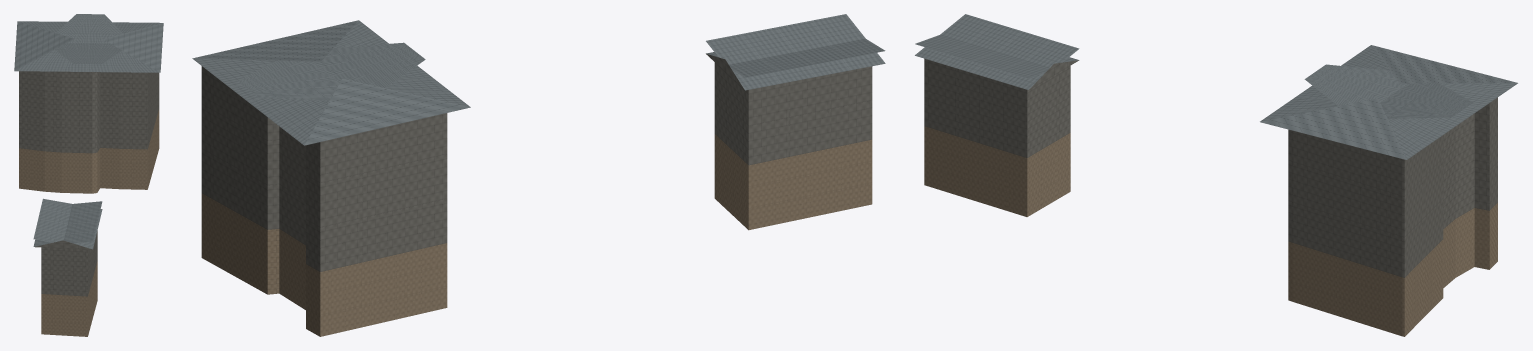
Rendered from bld_c-23_11_550.gltf.
3 views of the same model, side by side, from view 1: azimuth 30°, elevation 25°; view 2: azimuth 150°, elevation 25°; view 3: azimuth 270°, elevation 25° (orthographic). The views are drawn at different scales.
Parts seen in each view (by area): view 1: bld_c-23_11_550; view 2: bld_c-23_11_550; view 3: bld_c-23_11_550.
Part boxes in pixels (x1=…): bld_c-23_11_550: x1=14, y1=14, x2=163, y2=336; bld_c-23_11_550: x1=192, y1=14, x2=885, y2=336; bld_c-23_11_550: x1=915, y1=14, x2=1517, y2=336.
Size of the model in its own units: 37.17 by 18 by 47.31.
Materials: 4 (4 with a texture image).
